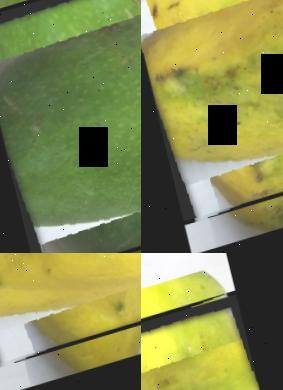PartiallyRipe: (141, 290, 283, 390)
Ripe: (141, 0, 283, 223), (0, 253, 141, 369)
Unripe: (0, 0, 141, 253)
